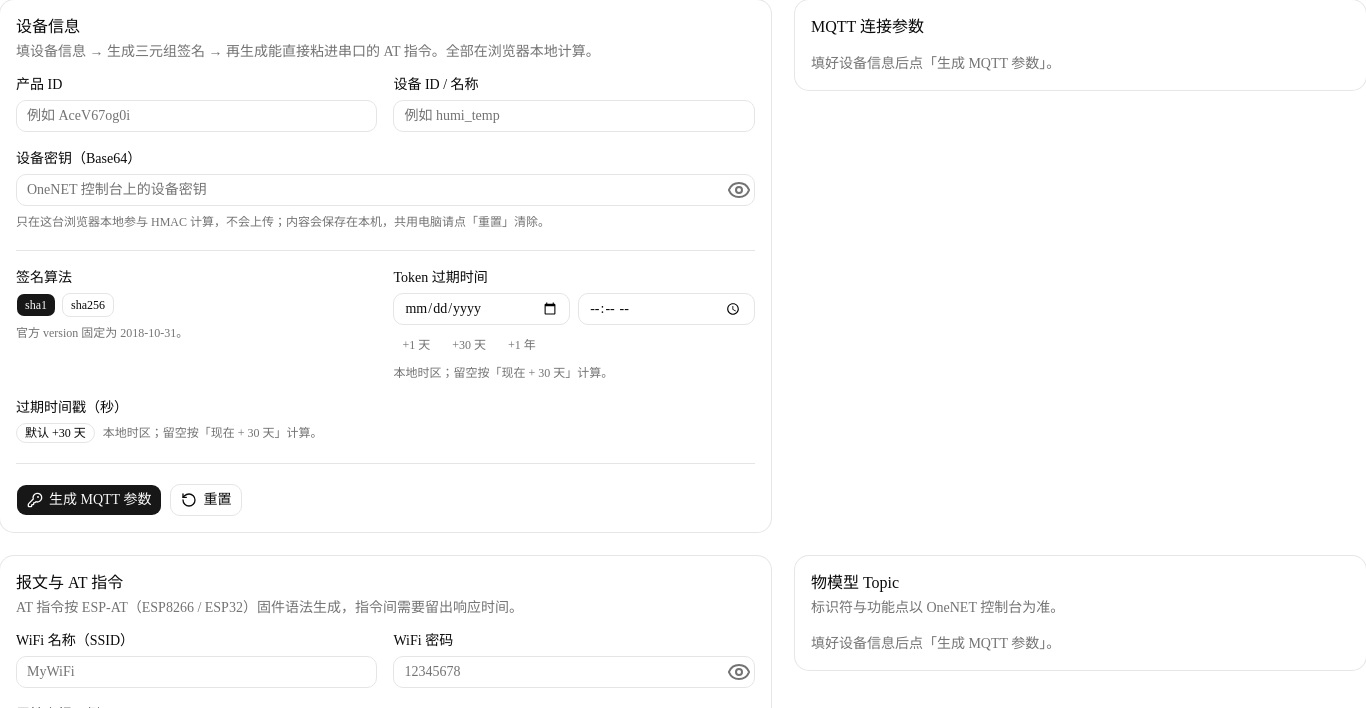
Test: oneNet · 三元组生成 › clientID = 设备 ID，Username = 产品 ID
This screenshot has width=1366, height=708.
Step 1. Type "AceV67og0i" into the field with id "onenet-product" → (197, 116), box [16,100,378,132]
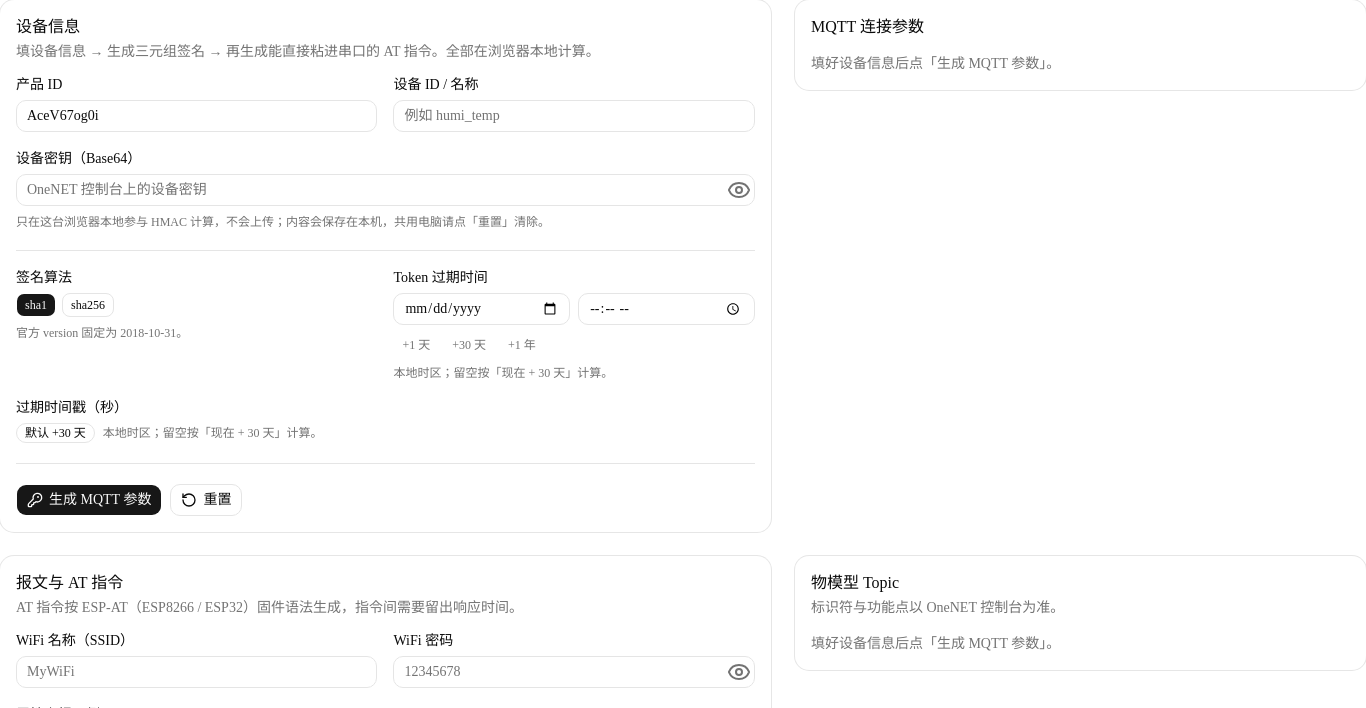
Step 2. Type "humi_temp" into the field with id "onenet-device" → (574, 116), box [394,100,755,132]
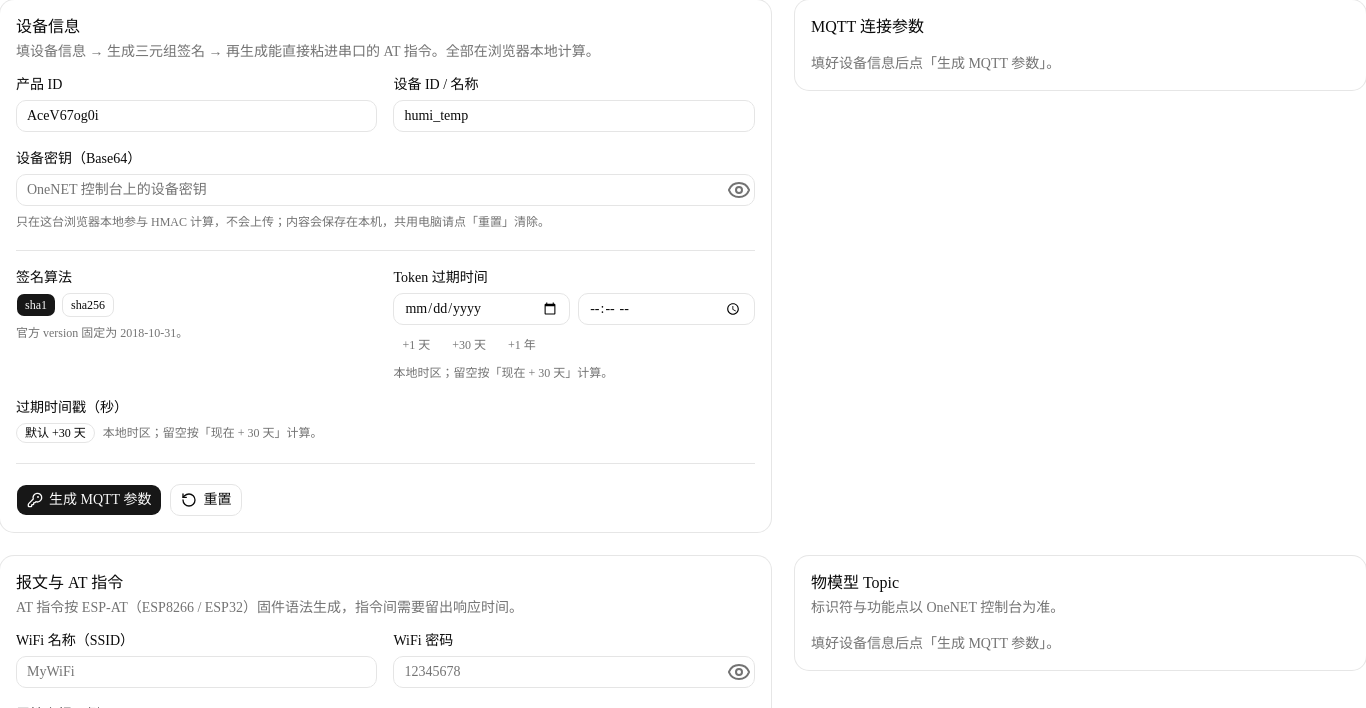
Step 3. Type "cThZSDE5bGNKRGZYV2pIdmxXNDhSMlpCUUZsUWFLdEc=" into the password field with id "onenet-key" → (372, 190), box [17,174,727,206]
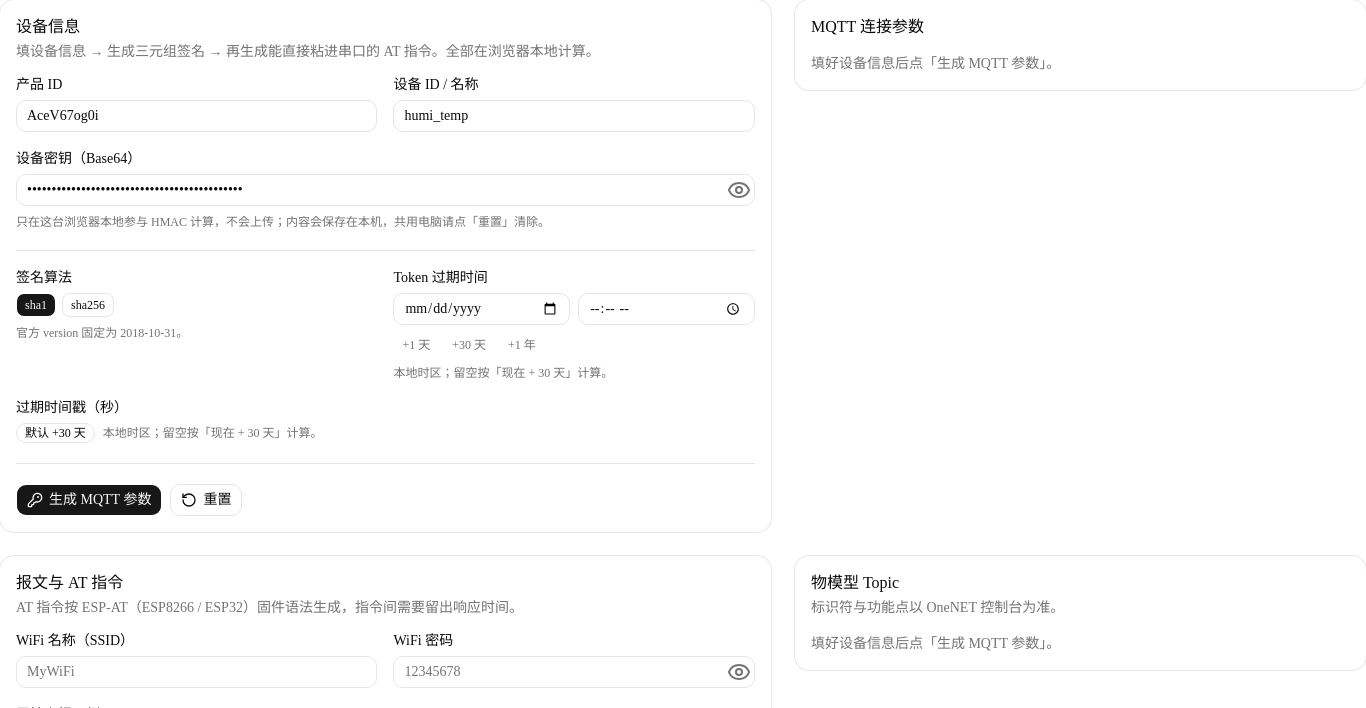
Step 4. Type "2027-01-01" into the date field → (482, 309), box [394,293,570,325]
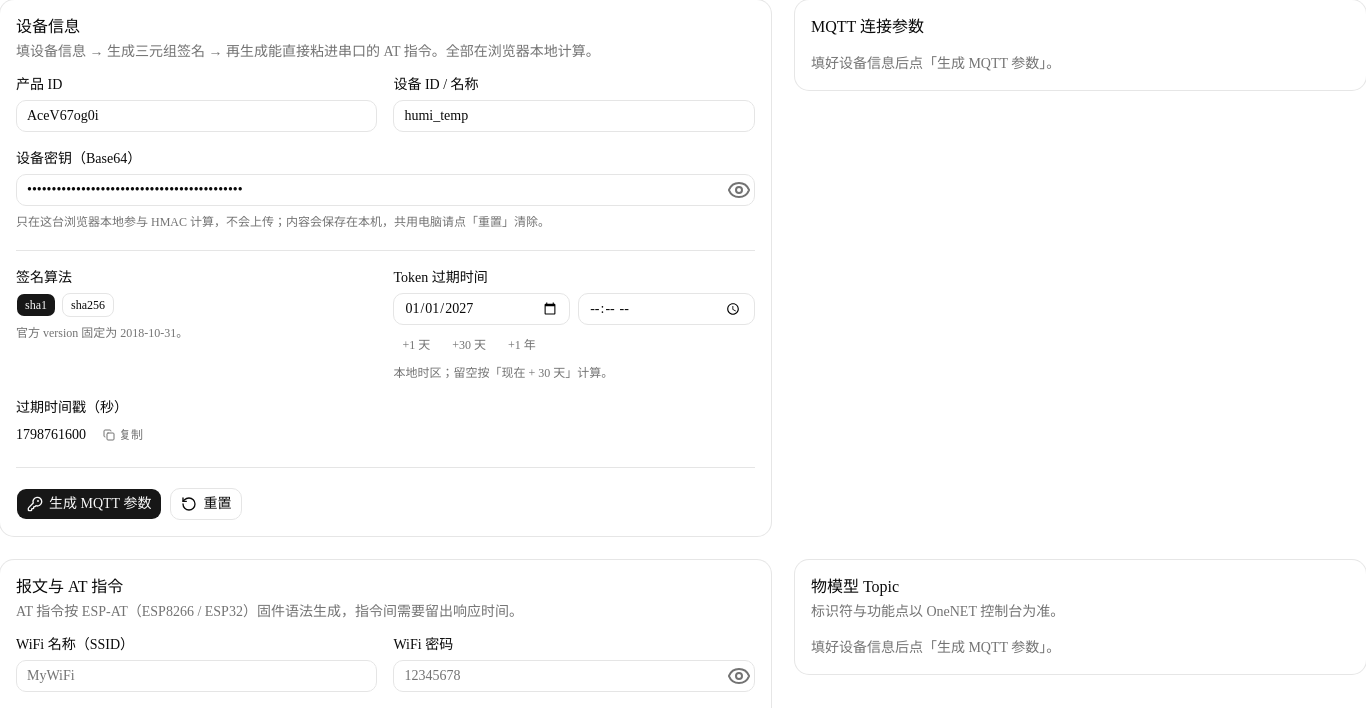
Step 5. Type "00:00" into the time field → (667, 309), box [578,293,755,325]
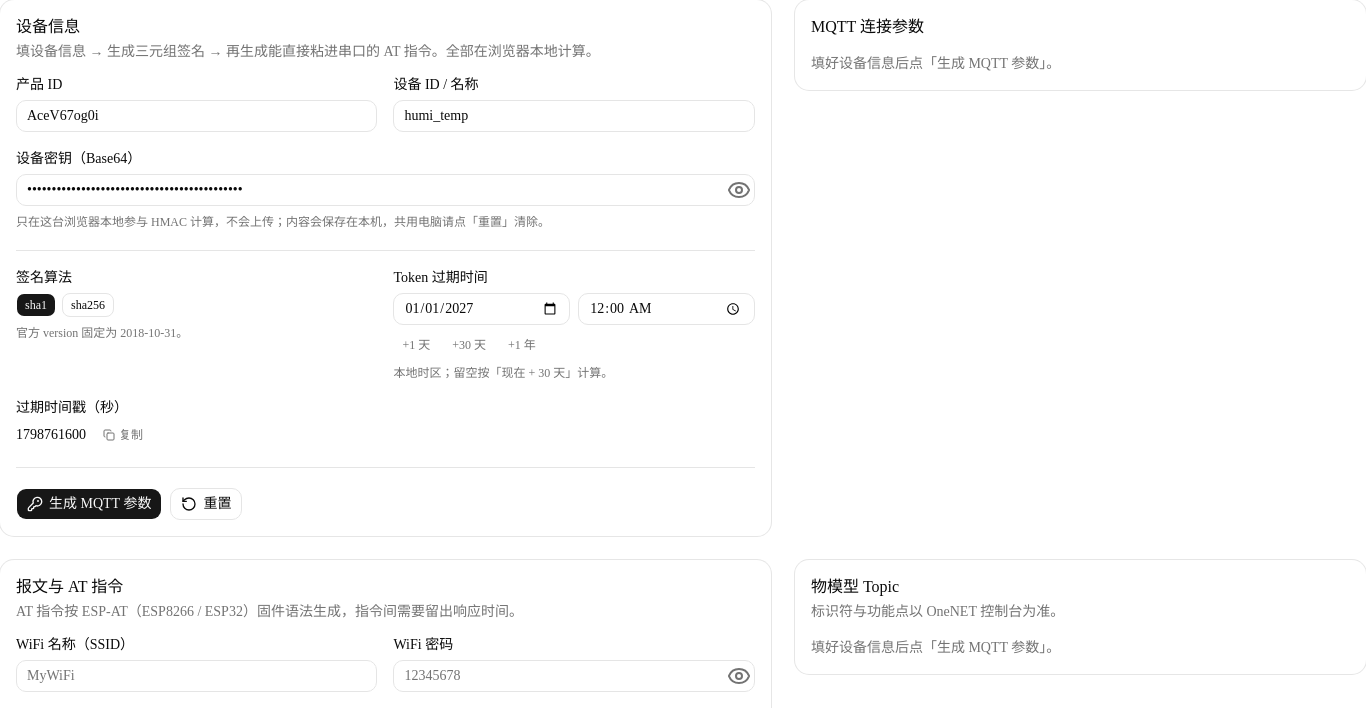
Step 6. Click the button "生成 MQTT 参数" → (89, 504), box [16,488,162,520]
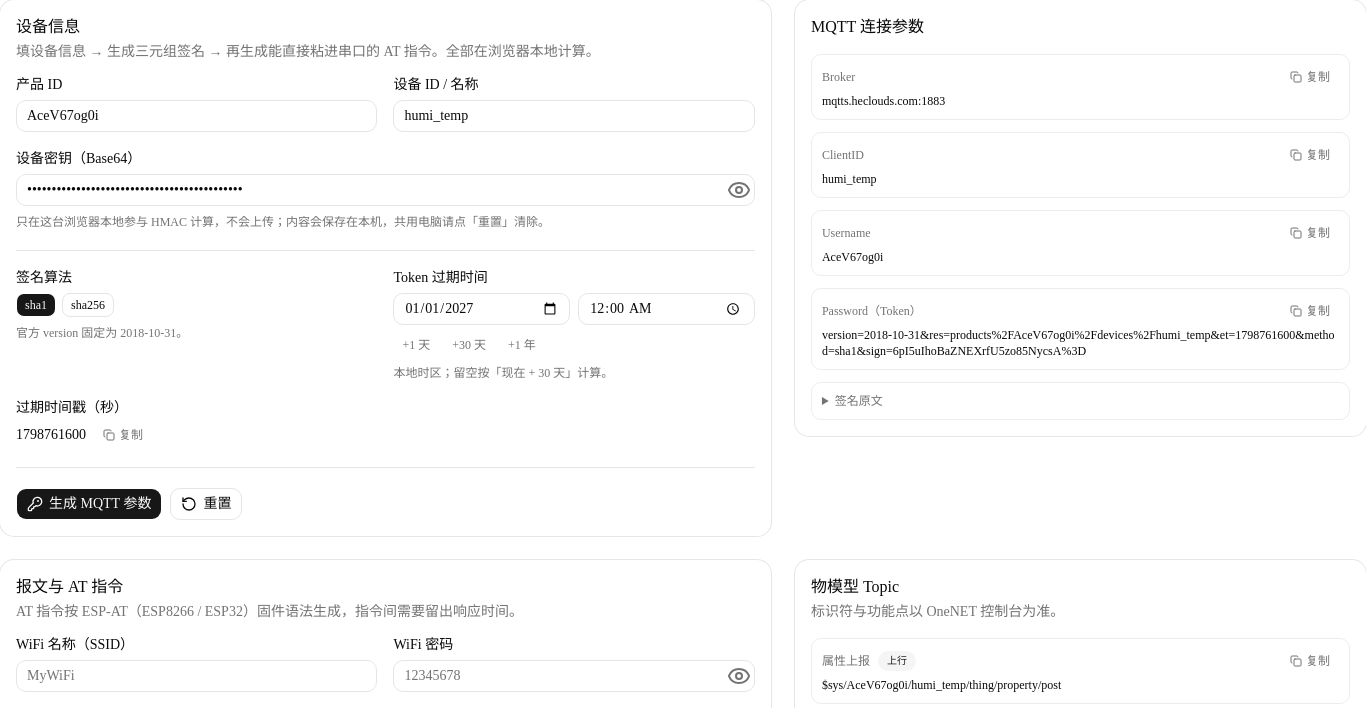
Expected: the text "ClientID" is shown, [822,147,864,163]
